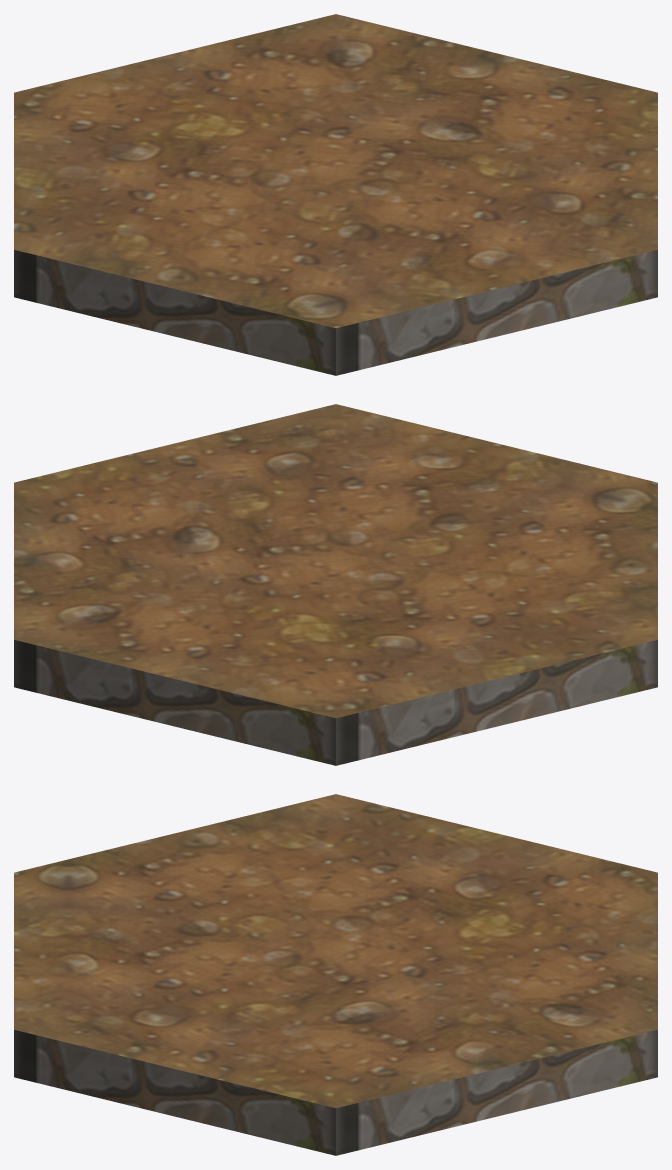
Rendered from hex_ground_dirt.glb.
The picture shows the model from 3 angles, top to bottom: view 1: azimuth 30°, elevation 25°; view 2: azimuth 150°, elevation 25°; view 3: azimuth 270°, elevation 25°; orthographic projection.
Visible parts, largest first — view 1: Painted occupation surface, Canonical hex foundation; view 2: Painted occupation surface, Canonical hex foundation; view 3: Painted occupation surface, Canonical hex foundation.
Part boxes in pixels (x1,y1,x2,y2): Painted occupation surface: (14, 14, 657, 328); Canonical hex foundation: (14, 250, 657, 375); Painted occupation surface: (14, 404, 657, 718); Canonical hex foundation: (14, 640, 657, 765); Painted occupation surface: (14, 794, 657, 1108); Canonical hex foundation: (14, 1030, 657, 1155).
Bounding box in the file's own units: 5.1 × 0.36 × 4.42.
Materials: 2 (2 with a texture image).
